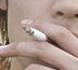Cigarette: (22, 26, 48, 41)
